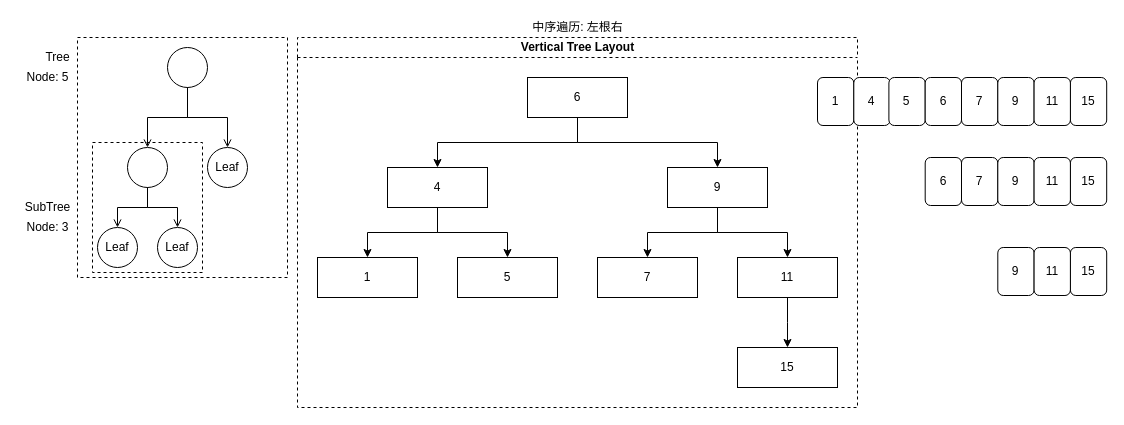
This 1124x425 diagram has some shape labels left out. Here are the shapes that lost their labels. From the top down, the centre of each, then its label:
point (187, 67): Root
point (147, 167): Node
